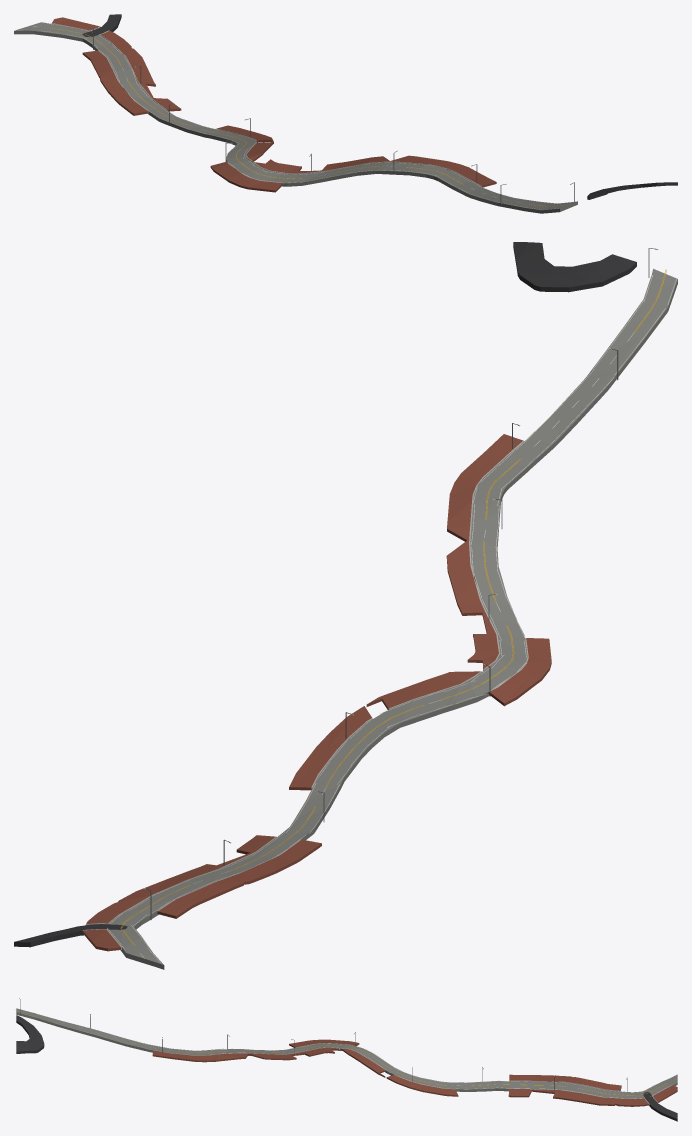
3 views of the same model, one above another, from view 1: azimuth 30°, elevation 25°; view 2: azimuth 150°, elevation 25°; view 3: azimuth 270°, elevation 25° (orthographic). The views are drawn at different scales.
Bounding box in the file's own units: 86.45 × 59.04 × 293.
